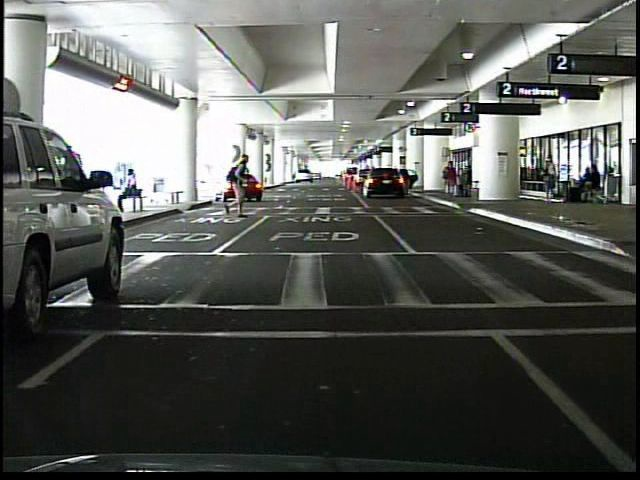person: (219, 154, 256, 220), (118, 167, 144, 215), (441, 160, 460, 199), (543, 153, 558, 201), (463, 165, 464, 199)
